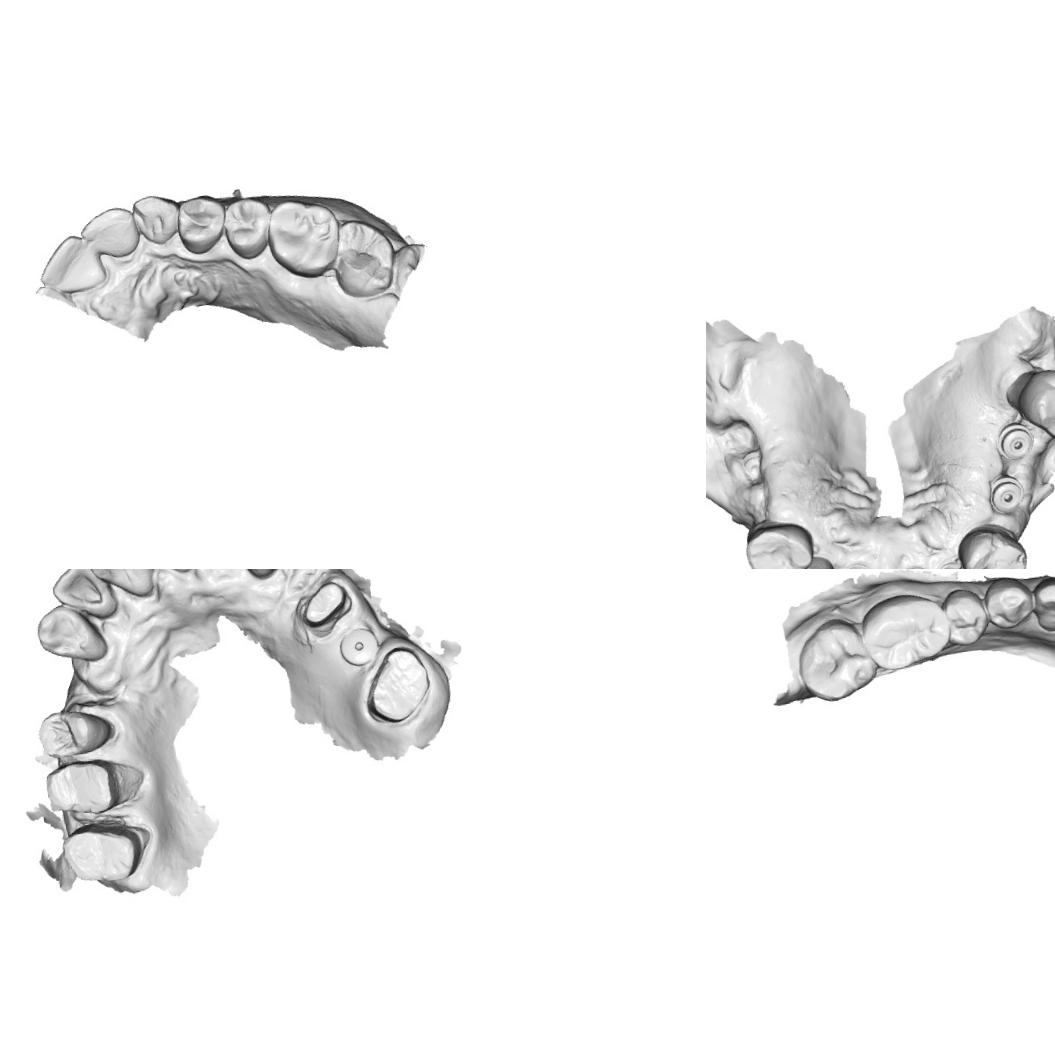canine: (32, 597, 112, 670), (131, 190, 184, 246), (1029, 575, 1055, 632)
crown: (55, 816, 148, 890), (358, 641, 436, 728), (41, 756, 125, 821), (292, 576, 355, 631)
implant: (334, 623, 382, 670), (984, 470, 1027, 516), (994, 419, 1037, 462)
incisor: (32, 228, 110, 300), (46, 569, 119, 625), (76, 204, 142, 264), (80, 569, 159, 604), (784, 553, 843, 569)
molar: (858, 587, 952, 674), (792, 614, 881, 705), (263, 193, 346, 283), (329, 214, 400, 302), (1002, 361, 1055, 457)
premolar: (35, 704, 114, 763), (218, 192, 278, 264), (172, 190, 230, 258), (741, 518, 818, 569), (954, 521, 1032, 569), (982, 574, 1038, 632), (941, 584, 990, 648)
